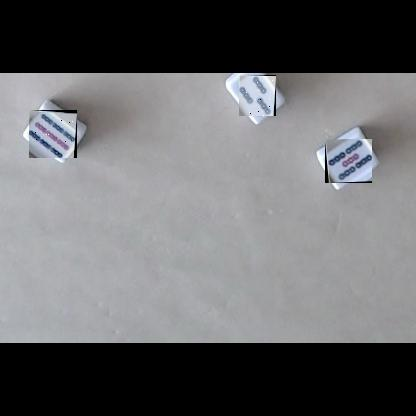3s: (239, 75, 276, 116)
5s: (325, 139, 372, 183)
9s: (29, 110, 77, 158)
